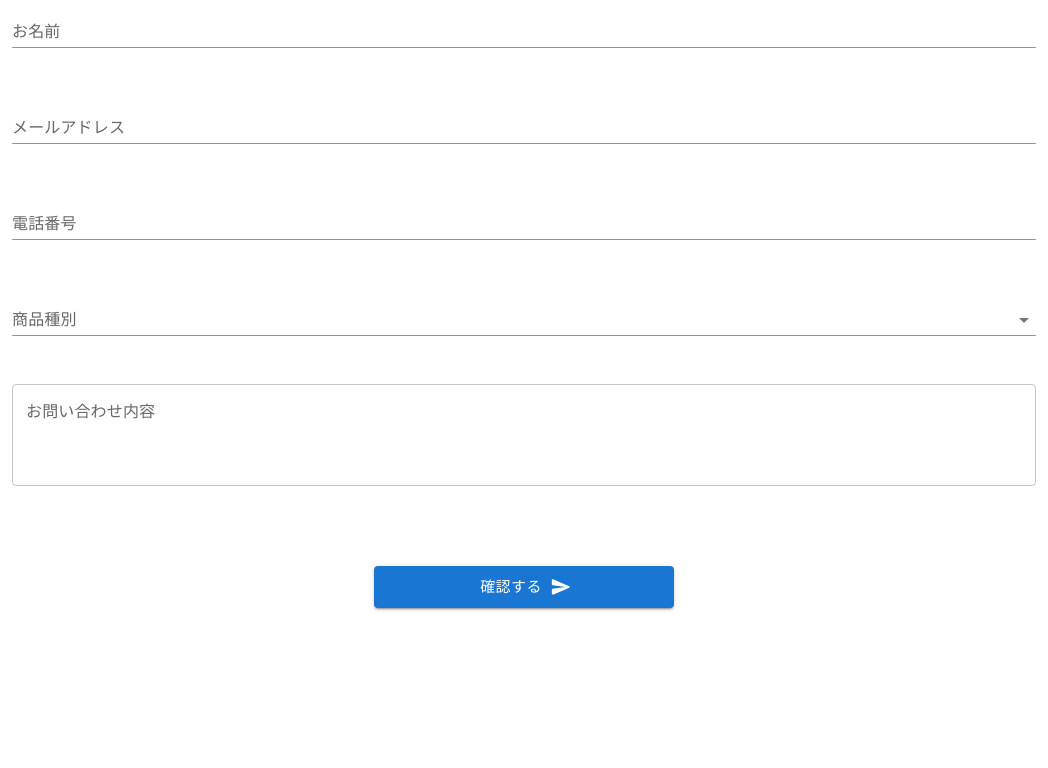
ContactFormContainer › 空で送信すると、エラーが表示される
The image size is (1048, 768).
Expected: the field labelled "お名前" is empty, [12,16,1036,48]
Expected: the field labelled "メールアドレス" is empty, [12,112,1036,144]
Click the button "確認する": {"x": 524, "y": 587} [374,566,674,608]
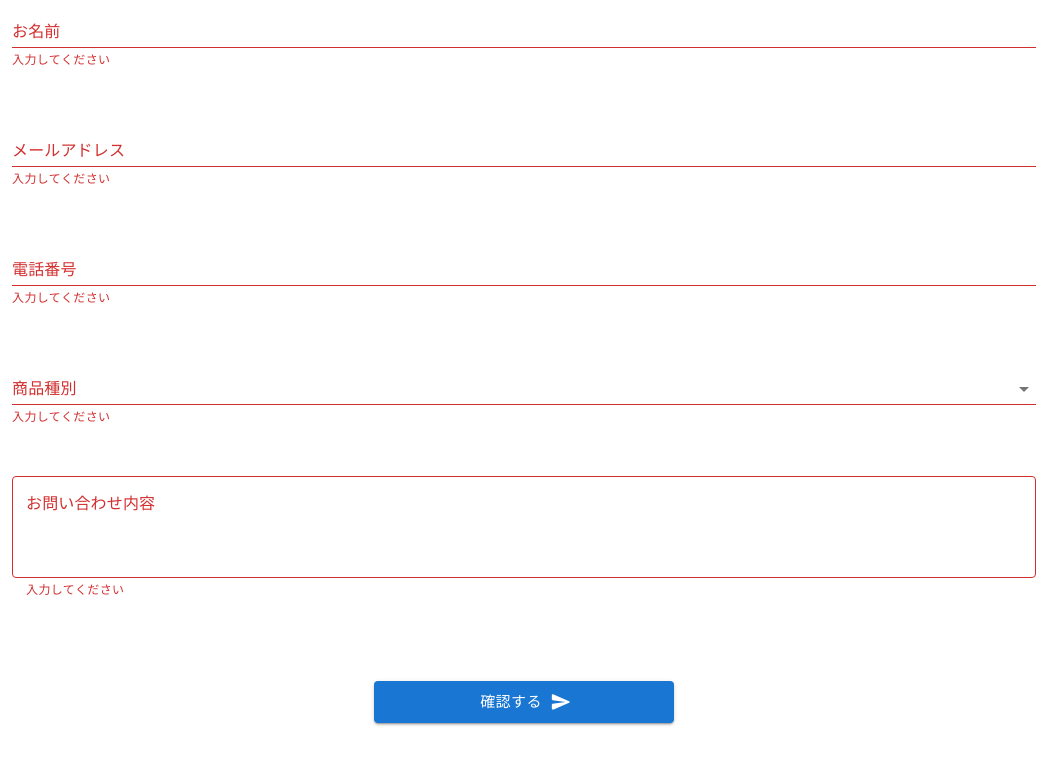
Result: the text "入力してください" is shown 5 times at [12,53,110,67]; [12,172,110,186]; [12,291,110,305]; [12,410,110,424]; [26,583,124,597]
